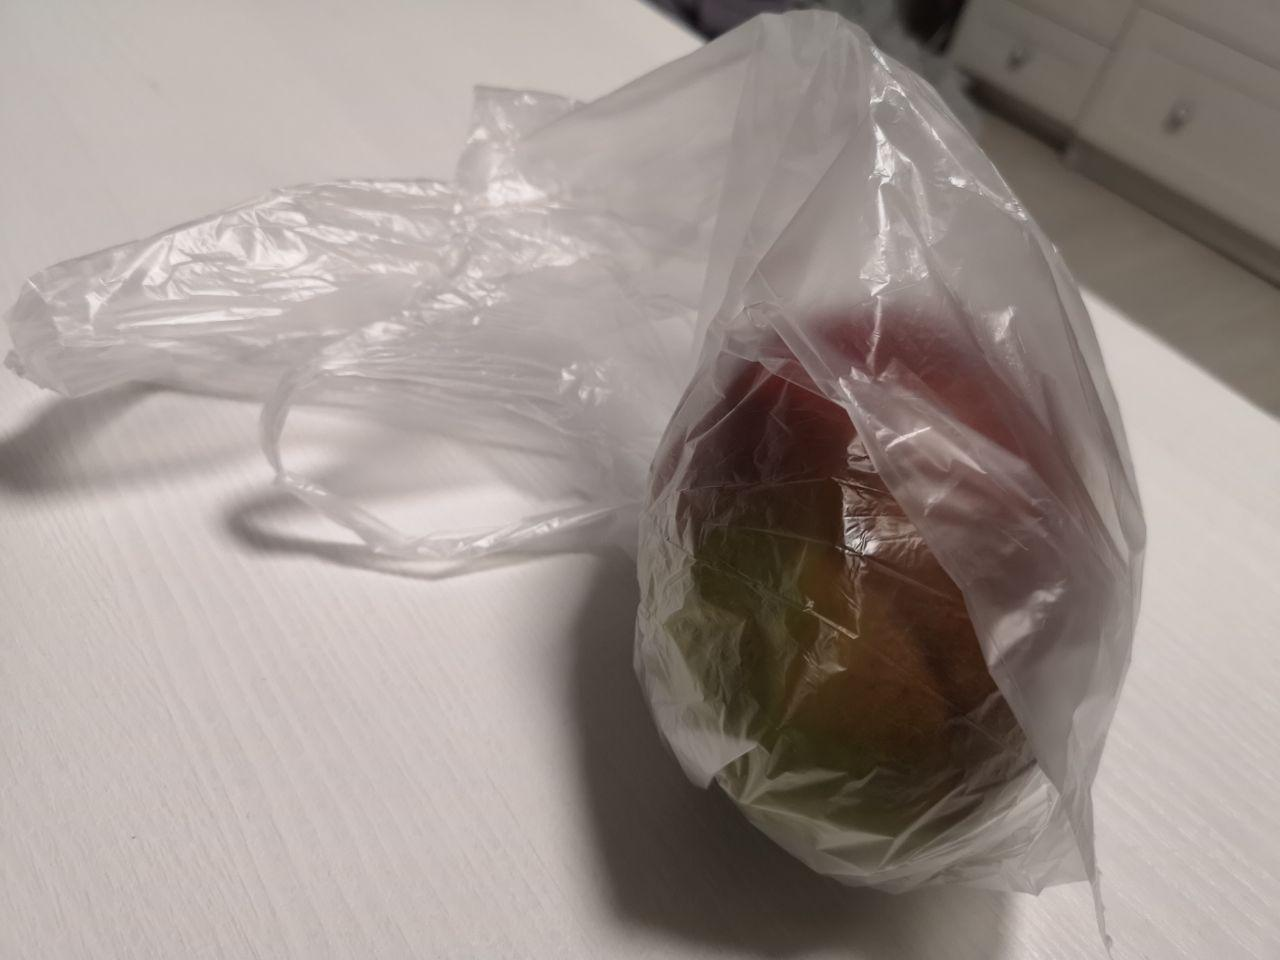mango: (510, 263, 1229, 939)
